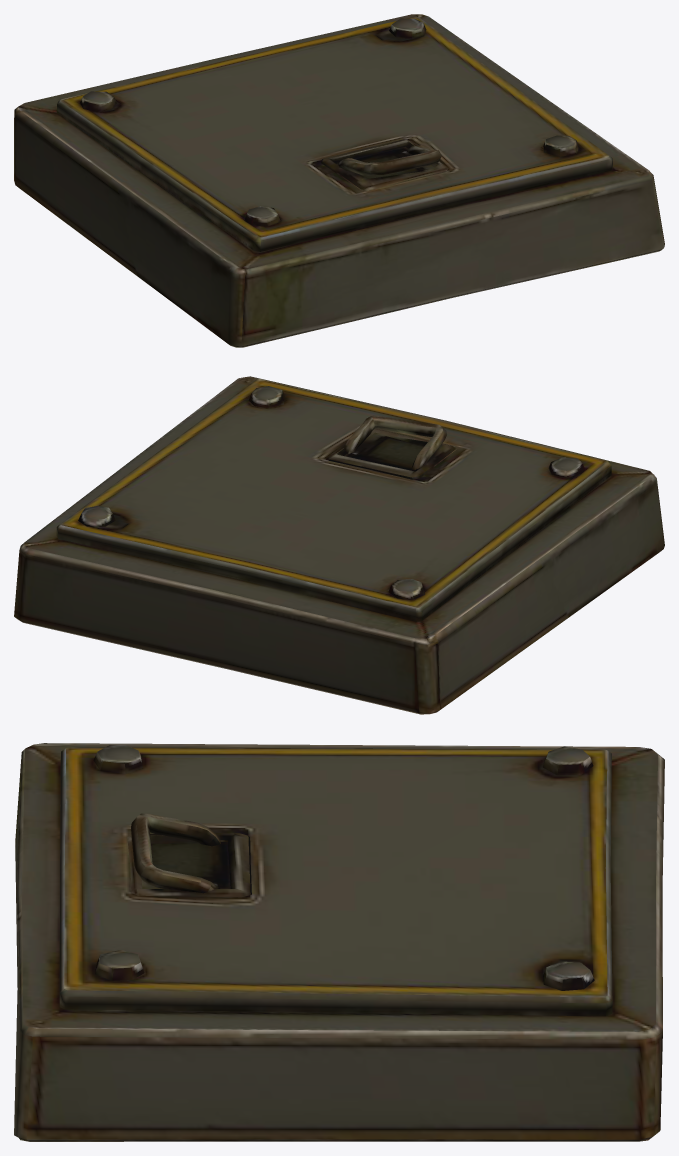
The model's file is SewerDoor_AccessHatch_90s.fbx.
The picture shows the model from 3 angles, top to bottom: view 1: azimuth 30°, elevation 25°; view 2: azimuth 150°, elevation 25°; view 3: azimuth 270°, elevation 25°; orthographic projection. The views are drawn at different scales.
Parts seen in each view (by area): view 1: SewerDoor_AccessHatch_90s; view 2: SewerDoor_AccessHatch_90s; view 3: SewerDoor_AccessHatch_90s.
Part boxes in pixels (x1,y1,x2,y2): SewerDoor_AccessHatch_90s: (14, 14, 664, 347); SewerDoor_AccessHatch_90s: (14, 376, 664, 714); SewerDoor_AccessHatch_90s: (14, 743, 664, 1141).
Bounding box in the file's own units: 161 × 41.66 × 151.
1 material, 1 textured.
